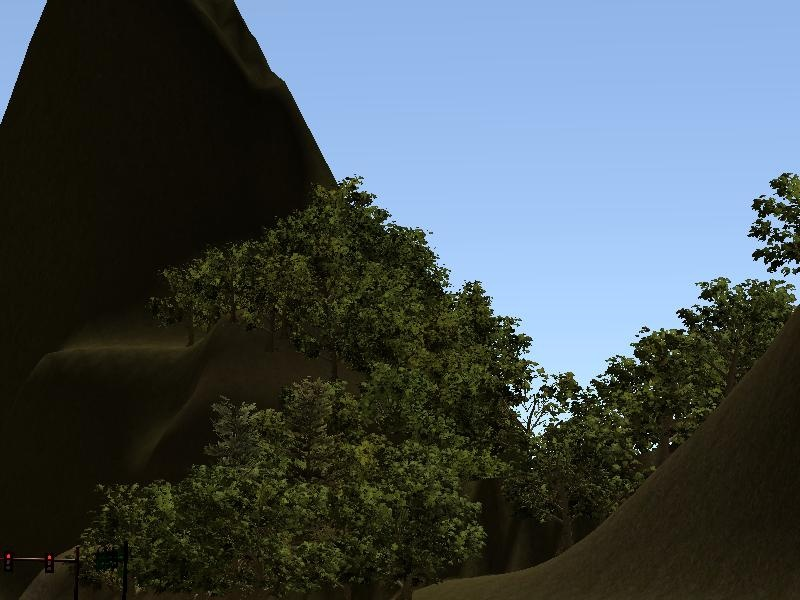Red: (44, 552, 55, 573), (3, 551, 13, 572)
